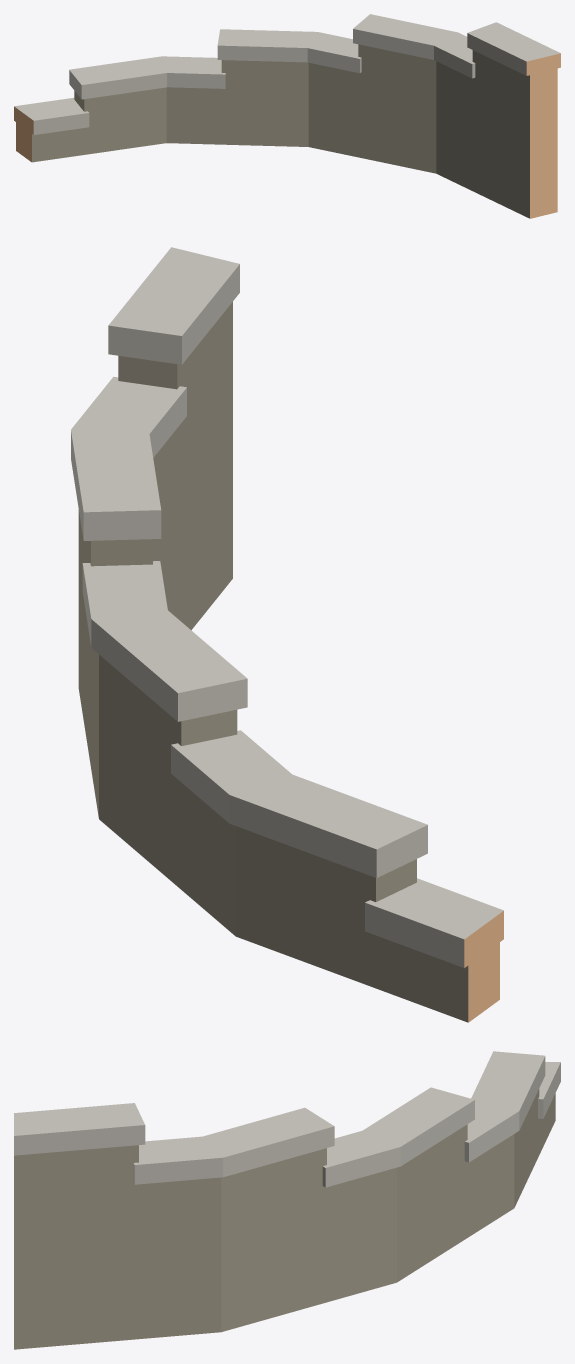
The model's file is Tiered_Retaining_Wall_Stepped_Curve_Short_3x3.glb.
The picture shows the model from 3 angles, top to bottom: view 1: azimuth 30°, elevation 25°; view 2: azimuth 150°, elevation 25°; view 3: azimuth 270°, elevation 25°; orthographic projection. The views are drawn at different scales.
Visible parts, largest first — view 1: Tiered_Retaining_Wall_Stepped_Curve_Short_3x3; view 2: Tiered_Retaining_Wall_Stepped_Curve_Short_3x3; view 3: Tiered_Retaining_Wall_Stepped_Curve_Short_3x3.
Boxes of the visible parts, box(x1,y1,x2,y2) form: Tiered_Retaining_Wall_Stepped_Curve_Short_3x3: box(14, 14, 560, 218); Tiered_Retaining_Wall_Stepped_Curve_Short_3x3: box(71, 247, 503, 1022); Tiered_Retaining_Wall_Stepped_Curve_Short_3x3: box(14, 1051, 560, 1349).
Bounding box in the file's own units: 316 × 138 × 316.
